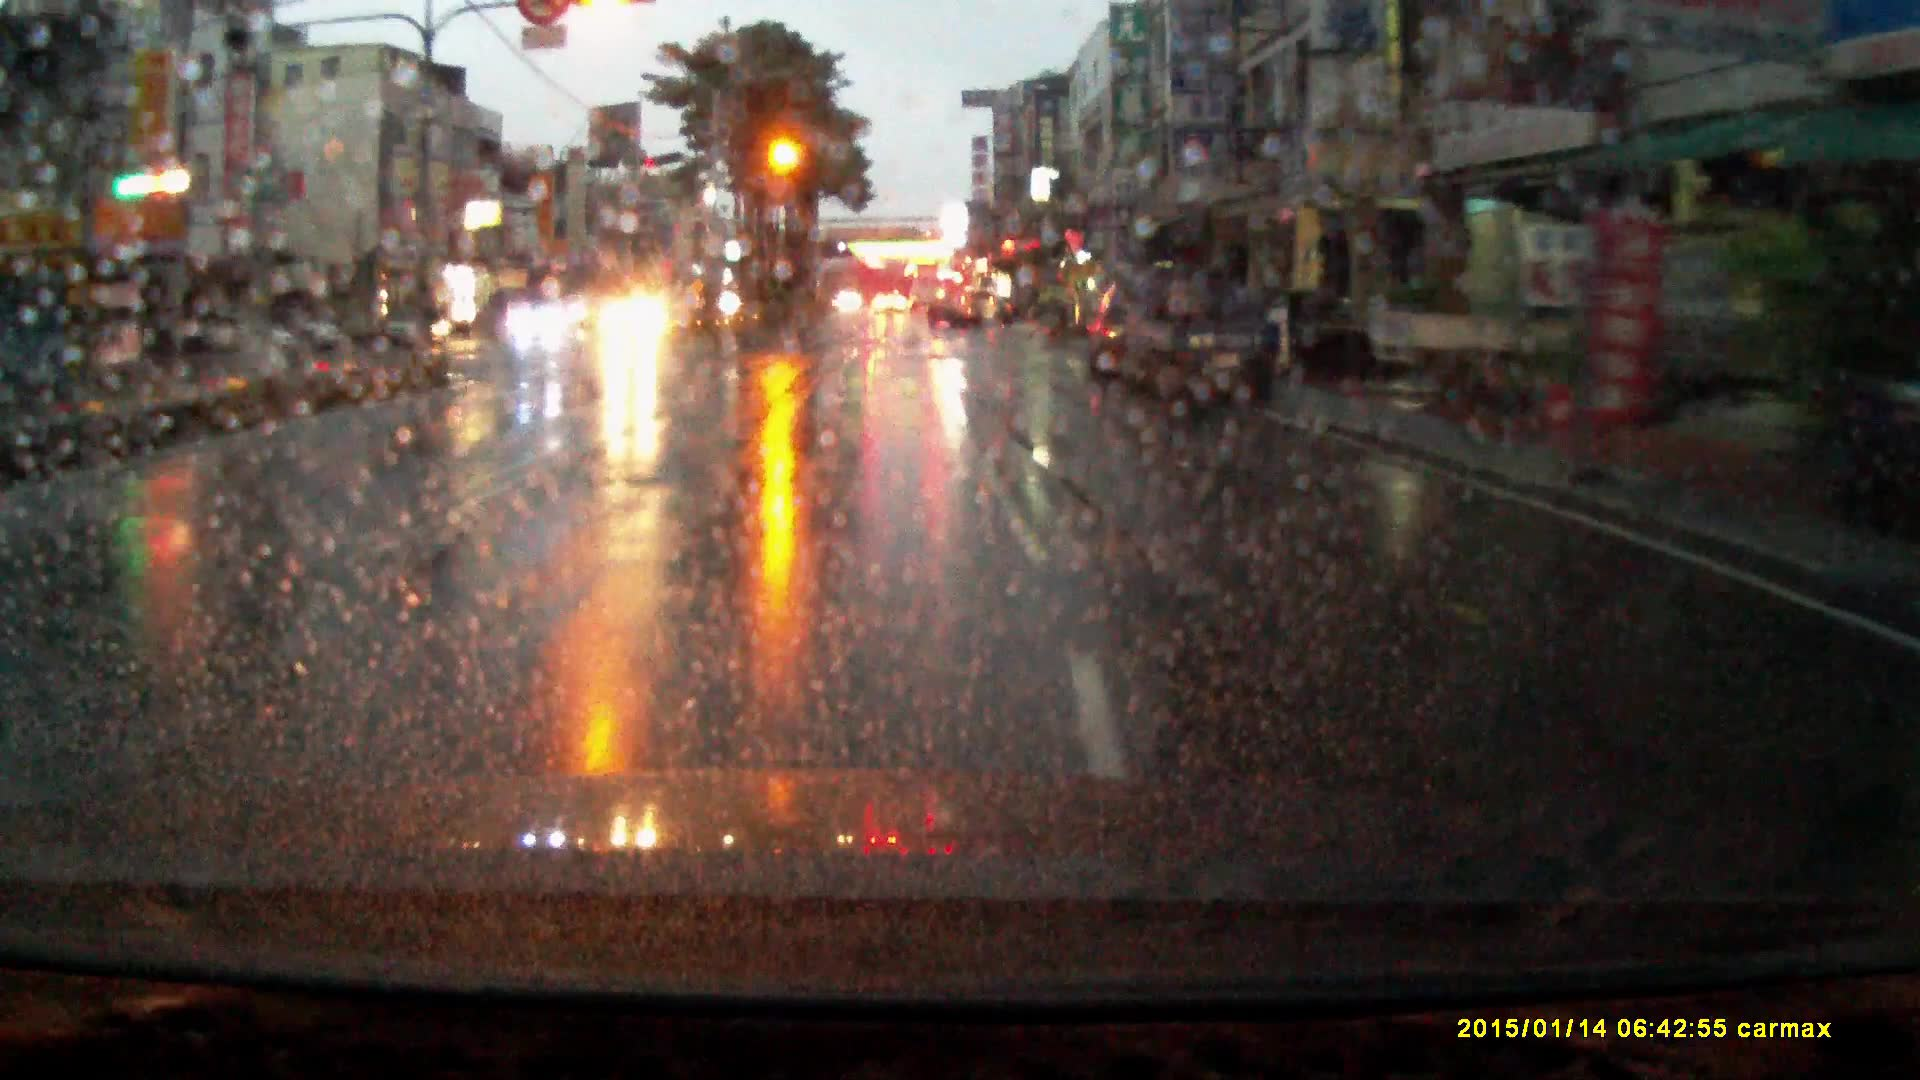vehicle: (1125, 261, 1278, 400), (1367, 309, 1596, 394), (171, 311, 291, 359), (597, 287, 674, 344), (1089, 276, 1130, 381), (272, 310, 351, 353), (928, 284, 998, 328), (384, 301, 448, 348), (513, 299, 575, 343), (911, 260, 945, 305), (873, 289, 909, 316)
